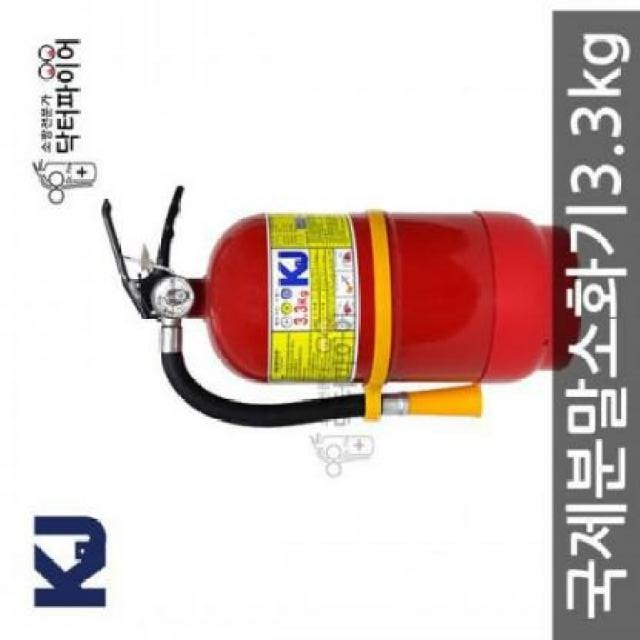fire extinguisher: (101, 186, 581, 429)
